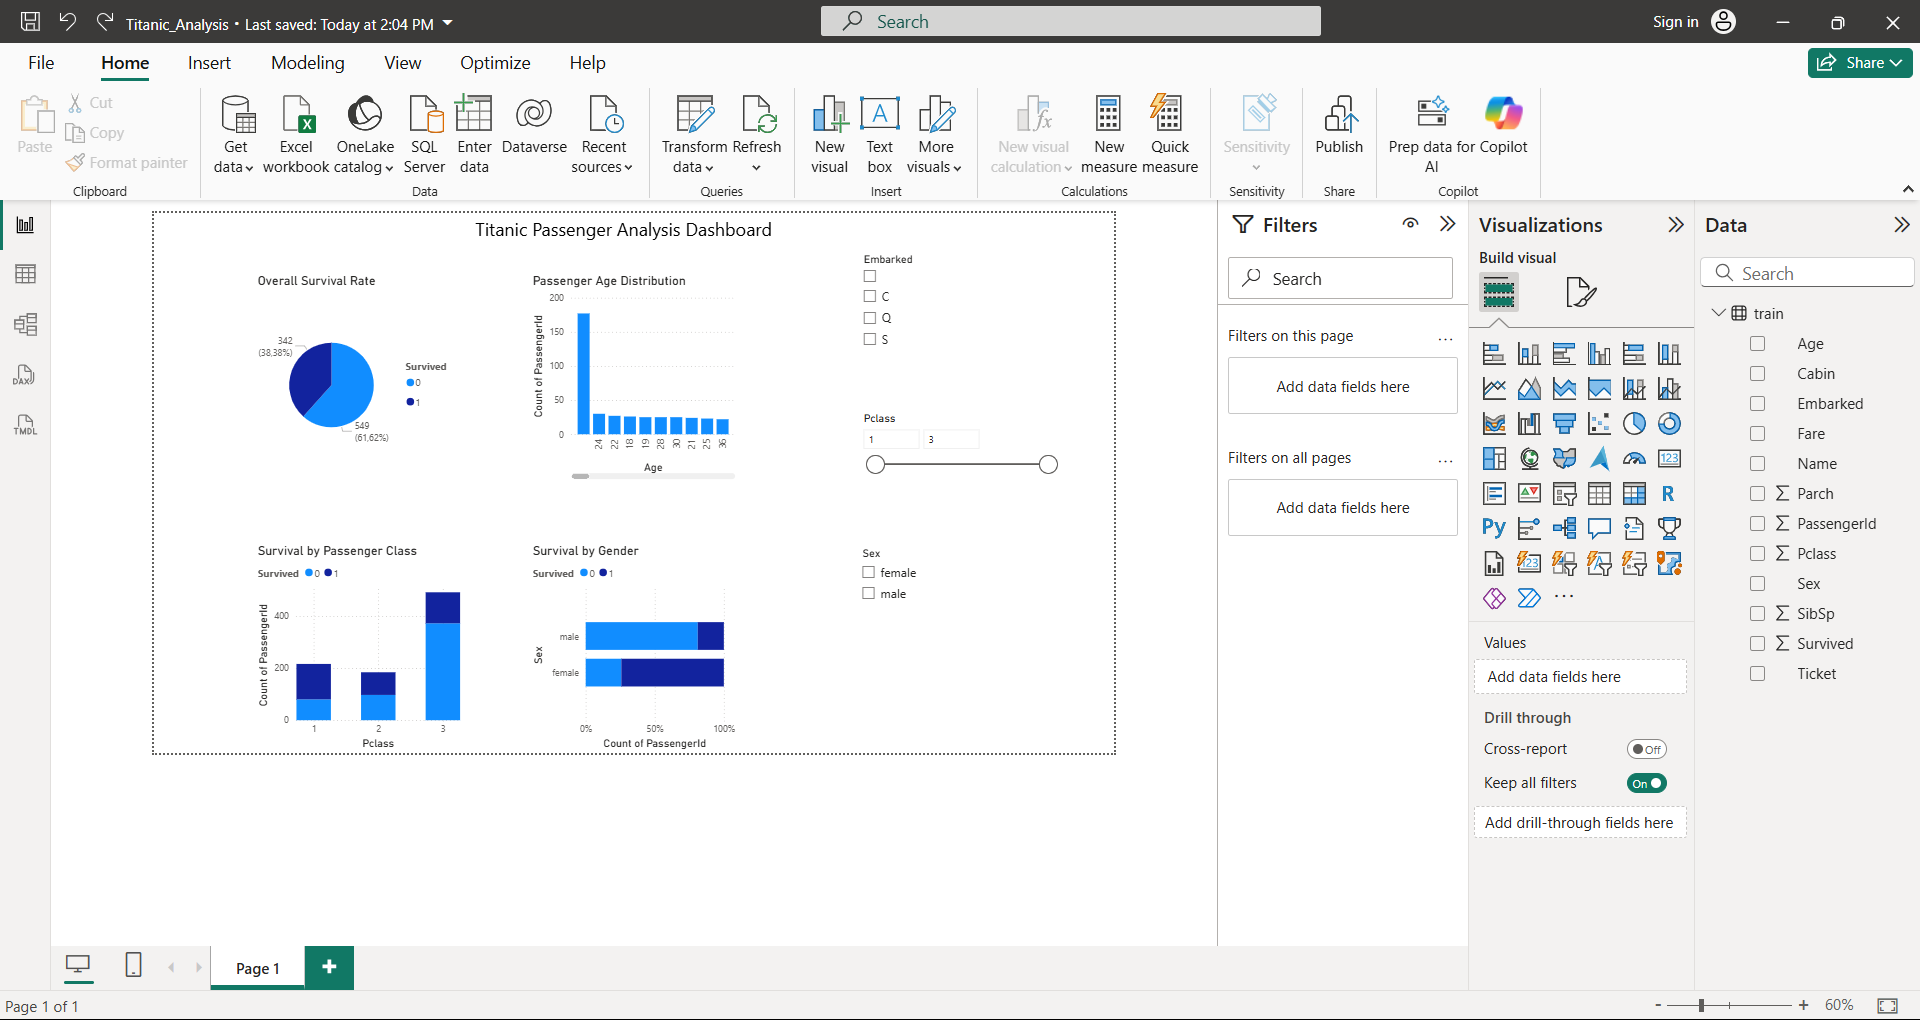

The dashboard page shown, as its layout file describes it:
{"tool":"powerbi","page":{"name":"Page 1","canvas":[1280,720],"ordinal":0},"visuals":[{"type":"pieChart","title":"Overall Survival Rate","fields":{"Category":["train.Survived"],"Y":["CountNonNull(train.PassengerId)"]},"box":[132.5,80,280,280],"z":0},{"type":"columnChart","title":"Survival by Passenger Class","fields":{"Category":["train.Pclass"],"Y":["CountNonNull(train.PassengerId)"],"Series":["train.Survived"]},"box":[132.5,440,280,280],"z":1000},{"type":"clusteredColumnChart","title":"Passenger Age Distribution","fields":{"Category":["train.Age"],"Y":["CountNonNull(train.PassengerId)"]},"box":[500,80,280,280],"z":2000},{"type":"hundredPercentStackedBarChart","title":"Survival by Gender","fields":{"Category":["train.Sex"],"Y":["CountNonNull(train.PassengerId)"],"Series":["train.Survived"]},"box":[500,440,280,280],"z":3000},{"type":"slicer","fields":{"Values":["train.Embarked"]},"box":[932.5,47.5,280,280],"z":4000},{"type":"slicer","fields":{"Values":["train.Pclass"]},"box":[932.5,260,280,280],"z":5000},{"type":"slicer","fields":{"Values":["train.Sex"]},"box":[932,440,280,280],"z":6000},{"type":"textbox","box":[314,0,626,48],"z":7001}]}

Visuals, with their boxes on the page's 1280x720 design canvas (x1, y1, x2, y2). These are canvas units, not pixel positions in the 1920x1020 screenshot, which may show the page scaled, cropped or inside an application window:
"Overall Survival Rate" pieChart: locate(132, 80, 412, 360)
"Survival by Passenger Class" columnChart: locate(132, 440, 412, 720)
"Passenger Age Distribution" clusteredColumnChart: locate(500, 80, 780, 360)
"Survival by Gender" hundredPercentStackedBarChart: locate(500, 440, 780, 720)
slicer - train.Embarked: locate(932, 48, 1212, 328)
slicer - train.Pclass: locate(932, 260, 1212, 540)
slicer - train.Sex: locate(932, 440, 1212, 720)
textbox: locate(314, 0, 940, 48)
